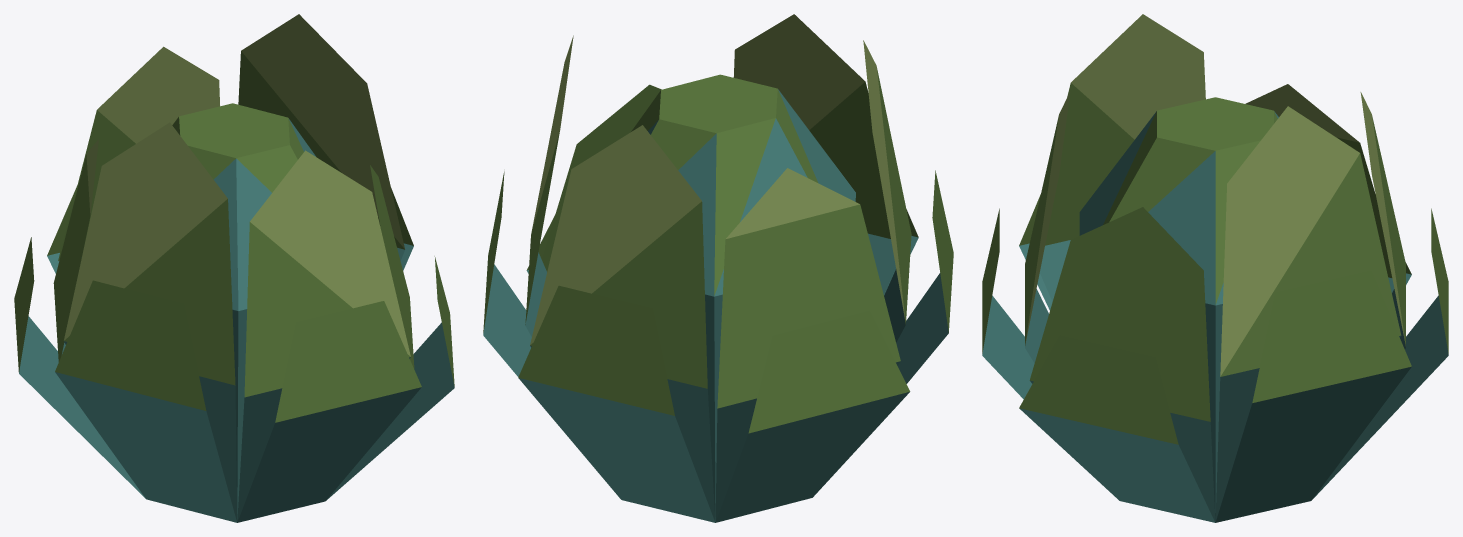
The model's file is cabbage.glb.
The picture shows the model from 3 angles, left to right: view 1: azimuth 30°, elevation 25°; view 2: azimuth 150°, elevation 25°; view 3: azimuth 270°, elevation 25°; orthographic projection. The views are drawn at different scales.
Bounding box in the file's own units: 1 × 1 × 1.
